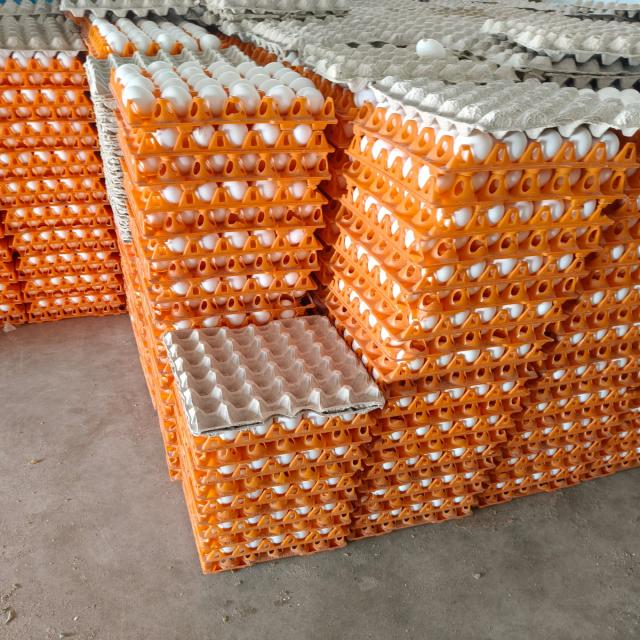egg_tray: (165, 320, 381, 497), (339, 187, 607, 304), (330, 234, 584, 356), (337, 190, 608, 301), (337, 192, 606, 302), (344, 161, 627, 262), (179, 413, 370, 560), (327, 277, 564, 395), (333, 229, 587, 339), (163, 316, 382, 433), (0, 135, 124, 321), (350, 126, 637, 205), (484, 357, 637, 503), (345, 131, 637, 207), (347, 131, 637, 206), (352, 405, 513, 538), (114, 60, 331, 158), (130, 208, 321, 314), (179, 419, 368, 524), (131, 202, 321, 303), (354, 106, 635, 174), (132, 192, 323, 292), (329, 306, 541, 396), (327, 297, 551, 382), (131, 202, 321, 301), (239, 3, 485, 76), (131, 181, 325, 272), (182, 466, 354, 568), (332, 313, 539, 395), (481, 398, 638, 505), (369, 370, 527, 474), (183, 471, 352, 568), (183, 476, 348, 573), (110, 60, 335, 130), (238, 3, 485, 66), (357, 416, 505, 521), (227, 36, 363, 149), (343, 158, 630, 210), (119, 242, 181, 480), (137, 258, 312, 340), (121, 243, 181, 480), (249, 2, 489, 59), (362, 413, 513, 501), (185, 413, 371, 484), (119, 123, 331, 184), (349, 450, 492, 539), (507, 356, 637, 453), (125, 177, 325, 239), (119, 242, 177, 449), (362, 414, 512, 494), (144, 38, 342, 97), (531, 289, 639, 397), (121, 243, 177, 448), (556, 199, 639, 336), (372, 371, 526, 444), (526, 325, 638, 424), (191, 503, 350, 572), (221, 35, 356, 116), (148, 260, 311, 326), (373, 369, 529, 436), (13, 228, 125, 321), (302, 42, 517, 90), (481, 38, 639, 103), (188, 412, 372, 467), (530, 320, 637, 414), (483, 40, 639, 104), (180, 445, 364, 499), (86, 52, 193, 144), (481, 428, 610, 504), (191, 476, 356, 534), (132, 194, 326, 242), (123, 254, 175, 433), (0, 122, 107, 208), (350, 470, 483, 539), (0, 120, 105, 207), (505, 387, 637, 454), (193, 468, 357, 521), (0, 122, 103, 206), (570, 198, 639, 323), (369, 414, 512, 473), (293, 67, 357, 197), (296, 67, 358, 200), (482, 12, 639, 64), (378, 366, 526, 421), (122, 147, 330, 186), (17, 246, 125, 321), (124, 172, 325, 212), (351, 471, 487, 530), (478, 441, 601, 506), (362, 430, 505, 482), (148, 290, 313, 334), (369, 403, 515, 452), (149, 290, 313, 333), (18, 252, 123, 319), (545, 305, 639, 378), (85, 16, 220, 66), (118, 238, 157, 408), (244, 3, 393, 47), (526, 356, 637, 415), (0, 89, 98, 153), (91, 84, 130, 242), (82, 16, 220, 59), (201, 533, 345, 574), (291, 66, 362, 149), (5, 204, 116, 256), (139, 346, 182, 480), (552, 285, 639, 348), (347, 498, 473, 540), (201, 12, 303, 63), (142, 356, 182, 481), (587, 197, 639, 288), (0, 51, 87, 104), (181, 179, 317, 211), (532, 65, 639, 104), (84, 54, 126, 152), (0, 10, 85, 56), (434, 26, 521, 70), (118, 238, 150, 357), (532, 70, 639, 105), (0, 49, 88, 91), (219, 18, 299, 64), (116, 17, 220, 52), (0, 85, 94, 123), (0, 51, 89, 91), (588, 409, 639, 478), (565, 283, 639, 330), (582, 419, 639, 480), (0, 52, 88, 91), (0, 177, 108, 208), (100, 134, 131, 242), (3, 204, 113, 234), (180, 32, 277, 66), (0, 149, 102, 181), (0, 120, 99, 152), (21, 273, 124, 302), (11, 228, 117, 256), (60, 0, 192, 22), (25, 293, 125, 322), (16, 252, 119, 280), (102, 147, 131, 242), (96, 105, 125, 200), (0, 232, 26, 325), (219, 33, 290, 67), (208, 0, 349, 17), (219, 32, 288, 66), (220, 33, 290, 66), (319, 148, 350, 222), (316, 198, 341, 284), (218, 32, 278, 66), (158, 400, 183, 481), (587, 441, 639, 479), (327, 85, 358, 148), (0, 261, 27, 326), (312, 234, 333, 314), (158, 412, 182, 481), (320, 148, 351, 200), (158, 414, 182, 481), (254, 123, 321, 144), (567, 0, 639, 19), (312, 247, 332, 314), (594, 80, 639, 106), (535, 272, 575, 300), (0, 0, 60, 17), (0, 260, 22, 304), (589, 2, 639, 21), (412, 501, 454, 523), (579, 380, 617, 397), (0, 302, 26, 326), (0, 302, 26, 325), (297, 147, 324, 169), (530, 397, 564, 414), (285, 478, 338, 488), (226, 123, 258, 139), (616, 63, 639, 85), (0, 225, 12, 263), (271, 151, 295, 170), (268, 61, 291, 78), (107, 23, 130, 39), (157, 347, 170, 375), (451, 450, 470, 469), (183, 478, 192, 515), (291, 264, 306, 285), (423, 313, 446, 325), (440, 136, 462, 148), (242, 153, 265, 164), (575, 127, 591, 142), (285, 185, 305, 197), (445, 317, 466, 328), (558, 143, 574, 157), (529, 142, 542, 159), (477, 310, 495, 322), (224, 278, 241, 290), (225, 278, 242, 290), (508, 132, 526, 143), (305, 156, 319, 170), (122, 54, 140, 64), (212, 156, 229, 166), (510, 308, 523, 321), (44, 122, 58, 134), (162, 186, 174, 199), (25, 123, 42, 132), (549, 130, 561, 142), (565, 143, 574, 158), (249, 488, 271, 494), (213, 102, 224, 114), (455, 506, 468, 516), (315, 154, 324, 168), (303, 154, 314, 164), (204, 283, 216, 292), (342, 328, 350, 341), (287, 276, 297, 286), (581, 128, 590, 139), (277, 158, 285, 170), (305, 18, 321, 24), (170, 247, 183, 254), (40, 198, 53, 205), (561, 388, 571, 397), (134, 42, 143, 52), (522, 367, 530, 378), (158, 197, 166, 208), (270, 255, 282, 262), (174, 290, 188, 296), (199, 127, 211, 134), (225, 482, 234, 491), (446, 463, 455, 472), (539, 306, 548, 315), (594, 320, 604, 328), (456, 466, 469, 472), (146, 374, 151, 389), (137, 338, 146, 346), (407, 120, 417, 127), (433, 492, 447, 497), (261, 184, 268, 194), (57, 234, 68, 240), (271, 183, 277, 194), (243, 276, 254, 282), (145, 214, 161, 218), (578, 150, 585, 159), (558, 342, 565, 351), (574, 263, 583, 270), (626, 164, 635, 171), (374, 492, 389, 496), (291, 42, 301, 48), (59, 156, 67, 163), (179, 414, 183, 428), (296, 255, 307, 260), (297, 417, 308, 422), (550, 130, 559, 136), (245, 287, 254, 293), (178, 427, 182, 440), (579, 89, 589, 94), (234, 316, 241, 323), (412, 486, 420, 492), (468, 342, 476, 348), (296, 127, 304, 133), (405, 297, 414, 302), (401, 3, 406, 12), (301, 171, 310, 176), (319, 139, 324, 148), (243, 278, 254, 282), (597, 312, 604, 318), (37, 158, 47, 162), (325, 482, 330, 490), (0, 238, 5, 246), (72, 123, 82, 127), (262, 282, 270, 287), (146, 158, 156, 162), (156, 131, 164, 136), (575, 386, 581, 392), (265, 234, 271, 240), (127, 296, 130, 308), (599, 397, 604, 404), (556, 312, 563, 317), (83, 21, 88, 28), (314, 174, 319, 181), (91, 130, 94, 141), (399, 478, 407, 482), (134, 53, 140, 58), (101, 88, 107, 93), (69, 127, 75, 132), (437, 254, 442, 260), (396, 158, 401, 164), (328, 481, 333, 487), (307, 139, 312, 145), (284, 145, 290, 150), (166, 130, 171, 136), (134, 320, 139, 326), (281, 102, 288, 106), (568, 316, 575, 320), (265, 556, 272, 560), (302, 550, 309, 554), (483, 36, 490, 40), (582, 320, 586, 327), (221, 563, 226, 568), (385, 285, 390, 290), (310, 8, 315, 13), (143, 362, 148, 367), (620, 266, 625, 271), (505, 237, 510, 242), (541, 3, 549, 6), (407, 24, 413, 28), (564, 287, 571, 290), (521, 348, 524, 355), (287, 76, 294, 79), (563, 59, 570, 62), (259, 531, 266, 534), (206, 246, 213, 249), (182, 157, 189, 160), (371, 459, 375, 464), (372, 472, 377, 476), (160, 254, 165, 258), (631, 443, 635, 448), (208, 58, 213, 62), (577, 387, 581, 392), (227, 482, 237, 484), (478, 339, 482, 344), (617, 62, 622, 66), (468, 248, 473, 252), (359, 522, 364, 526), (441, 142, 446, 146), (582, 383, 585, 389), (447, 469, 453, 472), (292, 309, 298, 312), (601, 344, 607, 347), (116, 148, 119, 154), (229, 125, 238, 127), (484, 36, 490, 39), (398, 34, 404, 37), (268, 2, 274, 5), (276, 554, 285, 556), (261, 523, 267, 526), (313, 318, 322, 320), (446, 453, 452, 456), (259, 268, 267, 270), (128, 298, 130, 306), (2, 160, 6, 164), (565, 168, 569, 172), (354, 524, 358, 528), (254, 188, 258, 192), (136, 310, 140, 314), (441, 325, 445, 329), (505, 283, 508, 288), (430, 136, 435, 139), (558, 136, 561, 141), (411, 478, 416, 481), (354, 534, 359, 537), (590, 59, 595, 62), (502, 418, 505, 423), (354, 146, 357, 151), (229, 565, 233, 568), (328, 300, 331, 304), (194, 272, 197, 276), (410, 463, 414, 466), (177, 251, 181, 254), (169, 250, 173, 253), (274, 485, 277, 489), (467, 411, 473, 413), (581, 359, 585, 362), (580, 318, 584, 321), (383, 409, 387, 412), (426, 403, 429, 407), (582, 398, 586, 401), (630, 168, 634, 171), (173, 442, 176, 446), (583, 2, 589, 4), (393, 328, 396, 332), (382, 38, 386, 41), (209, 59, 213, 62), (85, 123, 89, 126), (398, 164, 401, 168), (374, 427, 377, 431), (263, 242, 266, 246), (243, 238, 245, 244), (505, 318, 508, 322), (81, 242, 86, 244), (0, 239, 2, 244), (516, 303, 521, 305), (431, 327, 434, 330), (611, 73, 614, 76), (604, 394, 607, 397), (565, 321, 568, 324), (174, 452, 177, 455), (631, 290, 634, 293), (283, 552, 286, 555), (548, 358, 551, 361), (219, 291, 222, 294), (636, 65, 639, 68), (438, 296, 441, 299), (502, 286, 505, 289), (413, 298, 416, 301), (403, 13, 406, 16), (342, 73, 345, 76), (611, 268, 614, 271), (12, 124, 15, 127), (596, 64, 599, 67), (561, 375, 564, 378), (167, 293, 170, 296), (281, 71, 284, 74), (222, 125, 225, 128), (598, 127, 601, 130), (563, 398, 567, 400), (21, 158, 23, 162), (602, 470, 606, 472), (420, 139, 424, 141), (199, 322, 201, 326), (554, 352, 556, 356), (567, 272, 571, 274), (394, 6, 396, 10), (250, 535, 254, 537), (107, 64, 109, 68), (237, 246, 241, 248), (258, 189, 260, 193), (208, 127, 212, 129), (605, 95, 609, 97), (413, 522, 420, 523), (539, 340, 542, 342), (272, 65, 274, 68), (429, 389, 435, 390), (461, 389, 463, 392), (416, 318, 419, 320), (625, 81, 627, 84), (372, 461, 374, 464), (625, 442, 628, 444), (337, 321, 339, 324), (600, 398, 603, 400), (199, 323, 201, 326), (303, 304, 306, 306), (605, 394, 607, 397), (572, 342, 574, 345), (163, 432, 165, 435), (194, 321, 197, 323), (565, 425, 567, 428), (211, 54, 214, 56), (274, 537, 277, 539), (414, 327, 417, 329), (237, 56, 239, 59), (239, 564, 242, 566), (254, 560, 260, 561), (395, 53, 398, 55), (452, 40, 455, 42), (284, 82, 287, 84), (60, 130, 63, 132), (79, 130, 82, 132), (434, 498, 437, 500), (410, 460, 413, 462), (519, 157, 521, 160), (580, 150, 583, 152), (577, 130, 580, 132), (540, 340, 543, 342), (119, 203, 121, 206), (450, 318, 453, 320), (478, 243, 481, 245), (381, 240, 383, 243), (174, 435, 175, 440), (254, 560, 259, 561), (265, 558, 270, 559), (467, 305, 472, 306), (394, 527, 399, 528), (84, 136, 89, 137), (277, 62, 281, 63), (176, 274, 178, 276), (153, 202, 155, 204), (399, 478, 401, 480), (53, 160, 57, 161), (441, 470, 443, 472), (627, 446, 629, 448), (565, 364, 567, 366), (250, 168, 252, 170), (620, 329, 622, 331), (583, 424, 585, 426), (121, 123, 123, 125), (459, 48, 461, 50), (283, 60, 285, 62), (605, 269, 609, 270), (186, 471, 188, 473), (602, 284, 604, 286), (407, 460, 411, 461), (437, 498, 439, 500), (432, 452, 434, 454), (479, 445, 483, 446), (442, 140, 444, 142), (401, 272, 403, 274), (381, 238, 383, 240), (577, 87, 580, 88), (150, 278, 153, 279), (187, 269, 190, 270), (163, 269, 166, 270), (141, 355, 142, 358), (154, 342, 155, 345), (371, 498, 374, 499), (531, 376, 534, 377), (297, 551, 300, 552), (300, 125, 303, 126), (215, 2, 218, 3), (152, 395, 153, 398), (81, 138, 82, 141), (46, 89, 49, 90), (206, 535, 209, 536), (194, 490, 195, 493), (329, 242, 332, 243), (582, 360, 585, 361), (415, 522, 418, 523), (333, 419, 334, 422), (171, 203, 174, 204), (165, 136, 166, 139), (450, 145, 453, 146), (475, 319, 476, 322), (438, 382, 439, 384), (556, 305, 558, 306), (599, 336, 601, 337), (436, 505, 438, 506), (439, 496, 441, 497), (609, 471, 611, 472), (613, 469, 615, 470), (573, 482, 575, 483), (291, 102, 292, 104), (610, 398, 611, 400), (167, 451, 168, 453), (233, 42, 235, 43), (620, 347, 622, 348), (167, 62, 168, 64), (490, 305, 492, 306), (361, 269, 363, 270), (417, 5, 419, 6), (302, 480, 304, 481), (525, 75, 526, 77), (211, 536, 213, 537), (53, 0, 55, 1), (467, 312, 469, 313), (336, 296, 337, 298), (327, 238, 328, 240), (566, 365, 568, 366), (356, 520, 357, 522), (382, 427, 384, 428), (238, 45, 240, 46), (245, 22, 246, 24), (394, 509, 395, 511), (466, 471, 468, 472), (173, 189, 175, 190), (283, 64, 284, 65), (283, 487, 284, 488), (161, 265, 162, 266), (434, 496, 435, 497), (618, 438, 619, 439), (587, 389, 588, 390), (238, 45, 239, 46), (189, 322, 190, 323), (274, 285, 275, 286), (87, 200, 88, 201), (387, 329, 388, 330), (358, 274, 359, 275), (432, 296, 433, 297), (582, 267, 583, 268), (412, 16, 413, 17), (154, 391, 155, 392), (298, 520, 299, 521), (498, 243, 499, 244), (489, 458, 490, 459), (269, 242, 270, 243), (541, 5, 542, 6), (156, 198, 157, 199), (216, 186, 217, 187), (229, 176, 230, 177), (241, 176, 242, 177), (191, 165, 192, 166), (441, 139, 442, 140), (469, 327, 470, 328), (409, 397, 410, 398), (115, 52, 116, 53), (174, 18, 175, 19), (2, 132, 4, 132), (450, 322, 450, 323), (530, 314, 530, 315), (131, 190, 132, 190), (127, 190, 128, 190), (569, 401, 570, 401), (622, 388, 623, 388), (561, 144, 561, 146), (423, 130, 426, 130), (25, 163, 26, 163), (82, 161, 84, 161), (251, 212, 252, 212), (330, 94, 330, 95), (414, 132, 414, 132), (345, 332, 346, 332), (441, 408, 442, 408), (5, 98, 5, 100), (610, 398, 610, 399), (589, 388, 590, 388), (596, 403, 597, 403), (601, 402, 601, 403), (612, 269, 612, 270), (250, 563, 250, 563), (281, 552, 281, 552), (294, 502, 294, 503), (181, 459, 182, 459), (594, 350, 595, 350), (422, 496, 426, 496), (449, 496, 452, 496), (238, 290, 239, 290), (278, 285, 278, 286), (229, 190, 230, 190), (318, 150, 319, 150), (343, 261, 343, 261), (558, 292, 559, 292), (412, 221, 412, 221), (252, 30, 252, 30), (226, 16, 228, 16), (411, 3, 412, 3), (83, 47, 83, 48), (398, 523, 399, 523), (497, 336, 497, 337), (205, 572, 208, 572), (250, 563, 252, 563), (311, 552, 312, 552), (351, 76, 352, 76), (412, 74, 414, 74), (370, 70, 370, 72), (396, 50, 397, 50), (336, 101, 338, 101), (225, 70, 228, 70), (141, 356, 141, 358), (87, 132, 88, 132), (83, 94, 83, 94), (27, 90, 29, 90), (628, 190, 632, 190), (426, 178, 426, 180), (573, 170, 575, 170), (550, 170, 550, 170), (434, 314, 436, 314), (301, 72, 301, 72), (254, 192, 254, 192), (294, 183, 294, 184), (234, 183, 237, 183), (551, 8, 552, 8), (438, 505, 439, 505), (458, 448, 459, 448), (303, 138, 303, 139), (367, 461, 368, 461), (434, 454, 436, 454), (270, 63, 278, 63), (477, 443, 481, 443), (310, 85, 310, 86), (259, 78, 259, 79), (361, 150, 361, 150), (603, 319, 604, 319), (384, 336, 387, 336), (510, 242, 510, 244), (374, 228, 374, 228), (387, 408, 388, 408), (178, 52, 179, 52)
